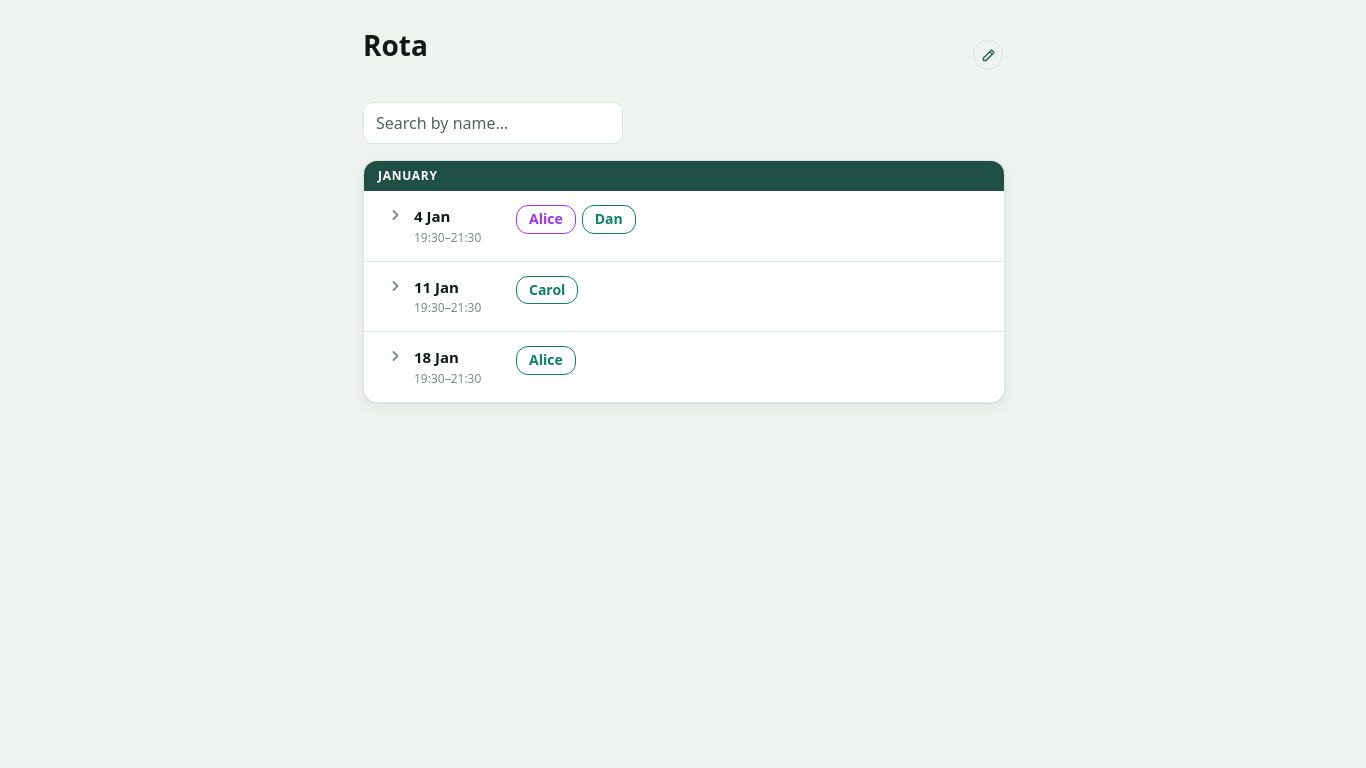
Test: RotaViewer role pickers › adding to an allocated shift offers every configured role
Click the button named "Edit rota" at (988, 55), box [973,40,1003,70]
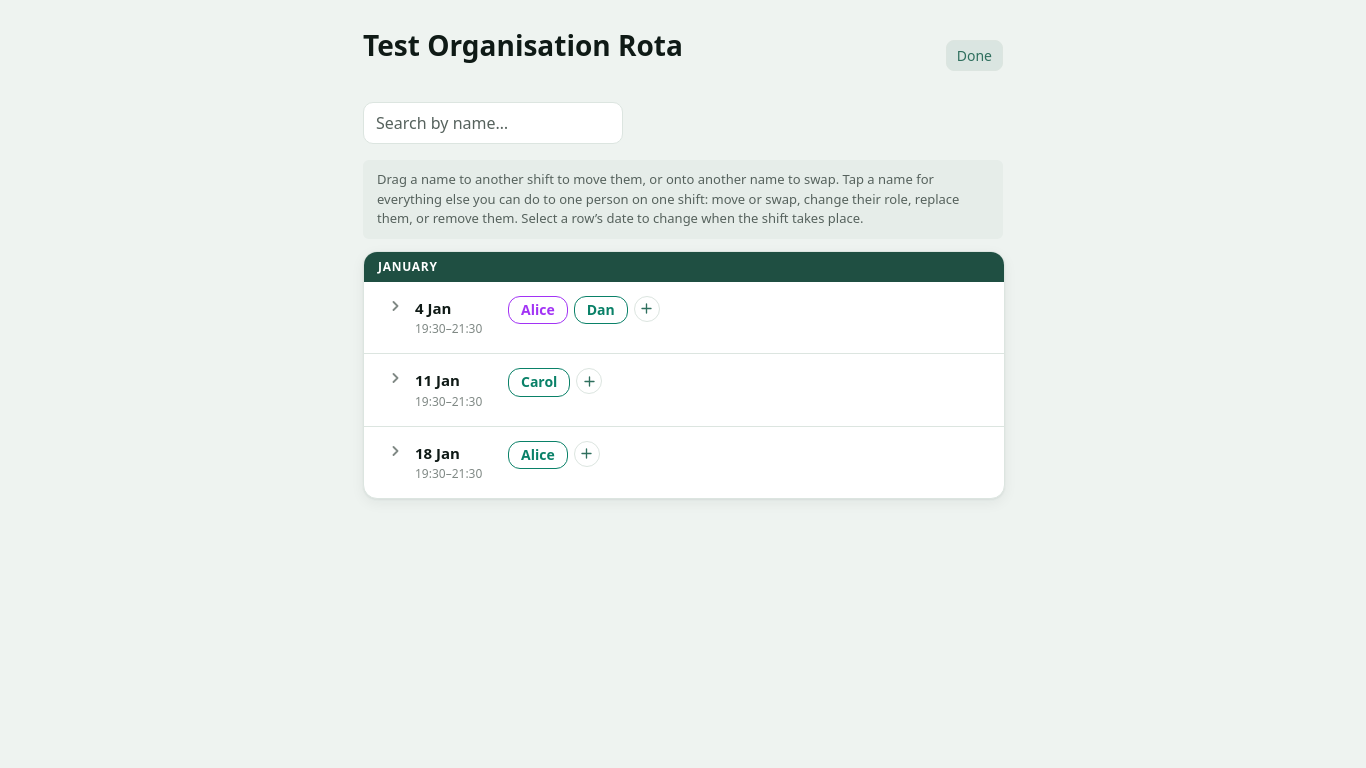
Click the button named "Add someone to" at (647, 308), box [634,296,660,322]
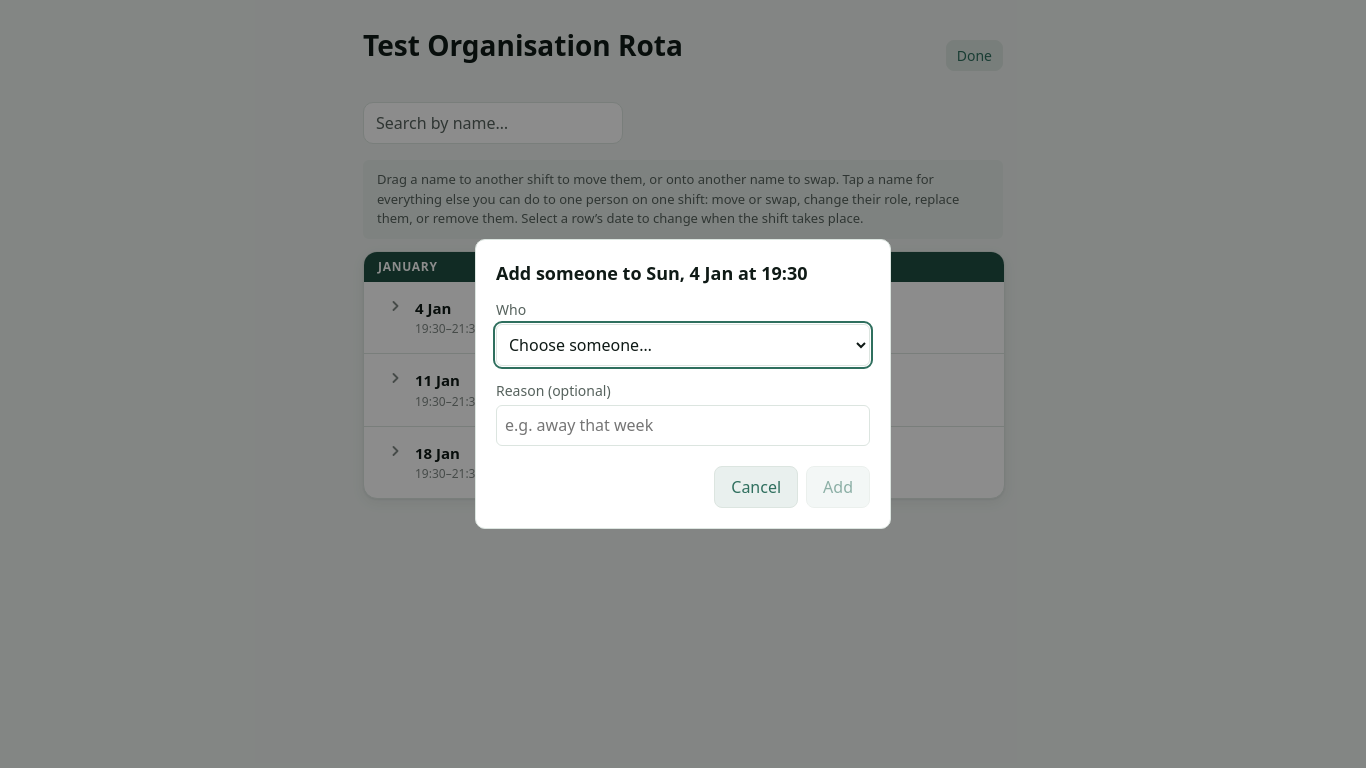
Select "Carol" in the dropdown labelled "Who" at (683, 345), box [496,324,870,366]
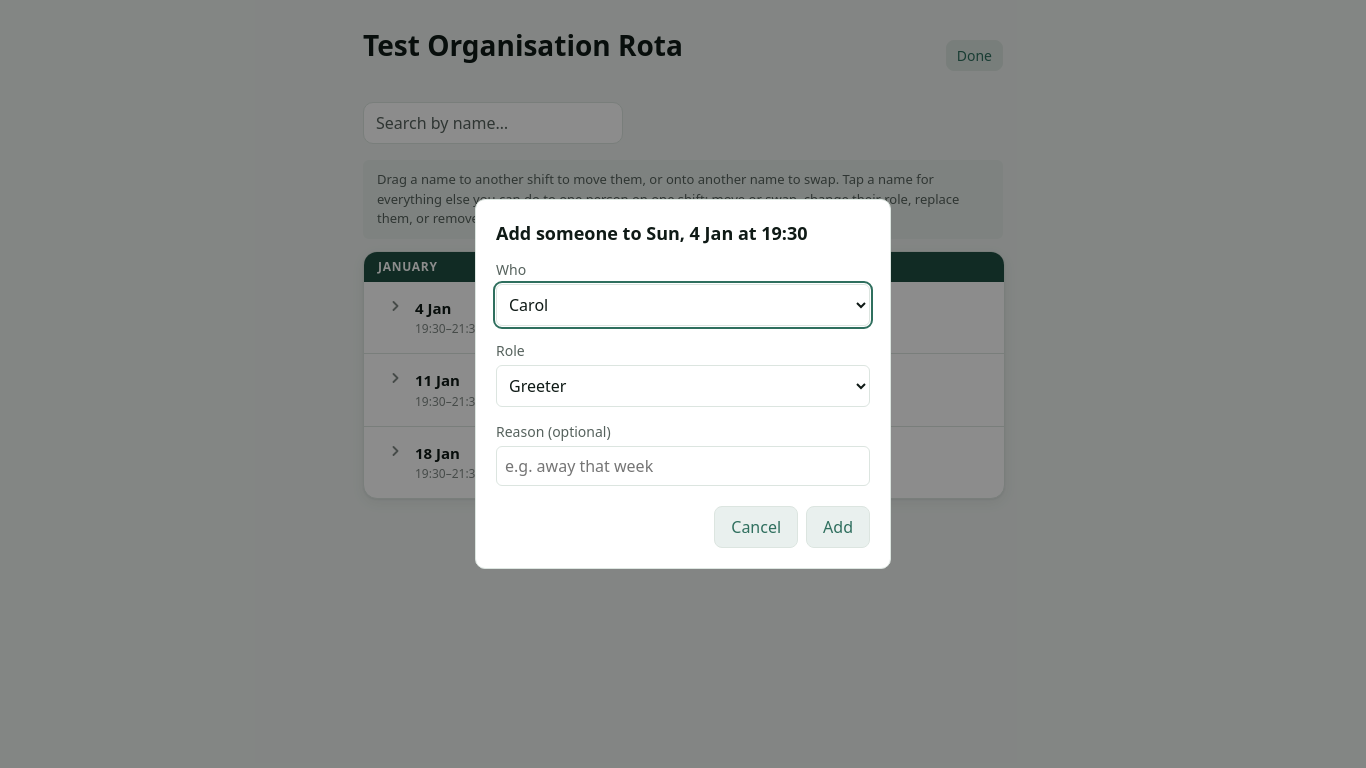
Expected: the dropdown labelled "Role" shows "Greeter", [496,365,870,407]
